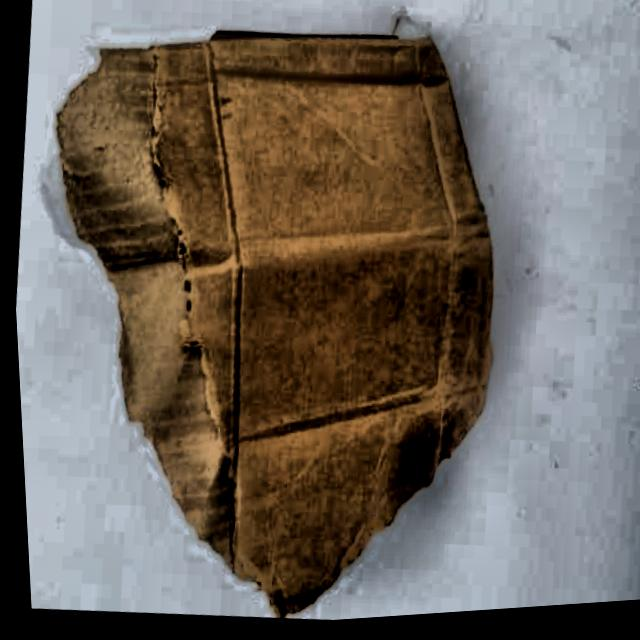Cardbox: (0, 0, 543, 640)
